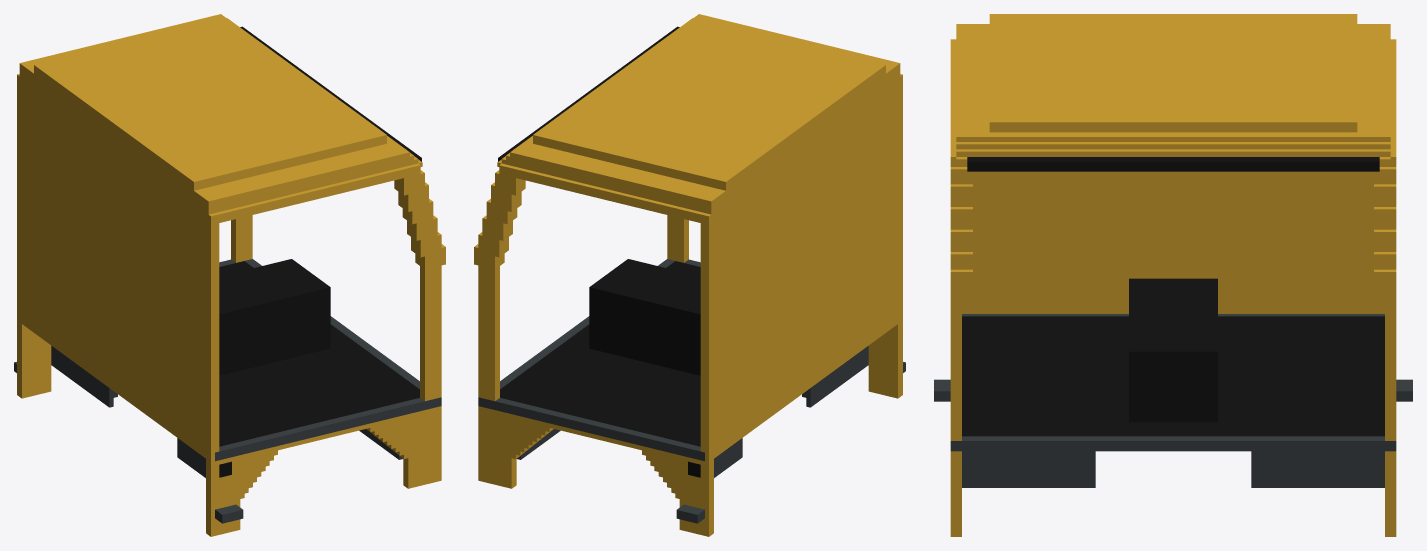
File: mobile_crane_cab.glb
3 views of the same model, side by side, from view 1: azimuth 30°, elevation 25°; view 2: azimuth 150°, elevation 25°; view 3: azimuth 270°, elevation 25° (orthographic). The views are drawn at different scales.
Visible parts, largest first — view 1: body:compound; view 2: body:compound; view 3: body:compound.
Part boxes in pixels (box(x1,y1,x2,y2)): body:compound: box(14, 14, 445, 536); body:compound: box(474, 14, 905, 536); body:compound: box(934, 14, 1412, 536).
Size of the model in its own units: 1.75 by 2.44 by 2.69.
